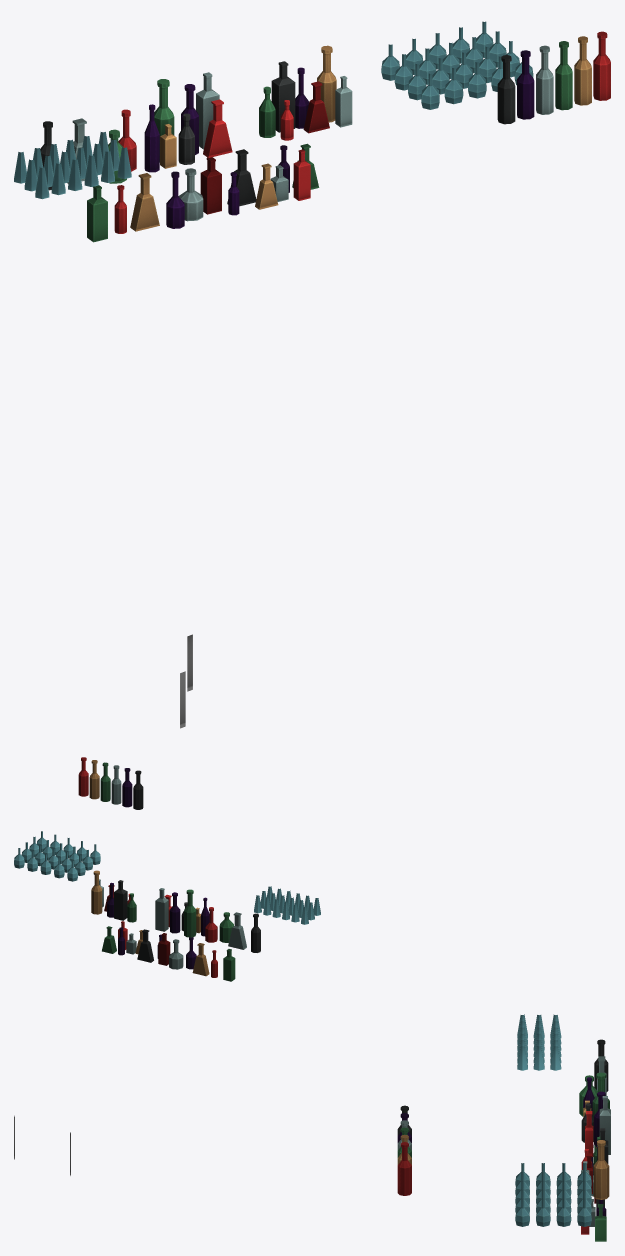
Rendered from bar_mesh_lev1.glb.
3 renders of one model, top to bottom at view 1: azimuth 30°, elevation 25°; view 2: azimuth 150°, elevation 25°; view 3: azimuth 270°, elevation 25°, orthographic. The views are drawn at different scales.
Parts seen in each view (by area): view 1: bar_mesh_lev1; view 2: bar_mesh_lev1; view 3: bar_mesh_lev1.
Part boxes in pixels (x1,y1,x2,y2): bar_mesh_lev1: [14, 21, 610, 728]; bar_mesh_lev1: [14, 757, 320, 981]; bar_mesh_lev1: [14, 1014, 610, 1241].
Bounding box in the file's own units: 14.71 × 7.17 × 14.34.
1 material, 1 textured.
